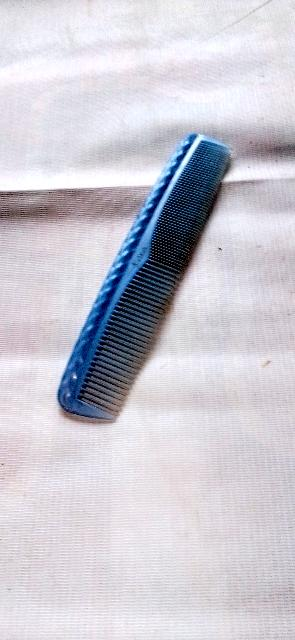hardplastic: (61, 113, 244, 424)
